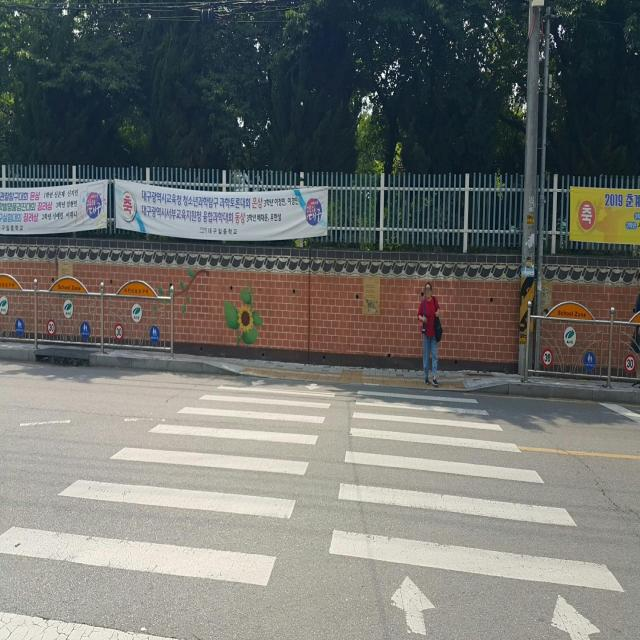횡단보도: (0, 375, 628, 640)
